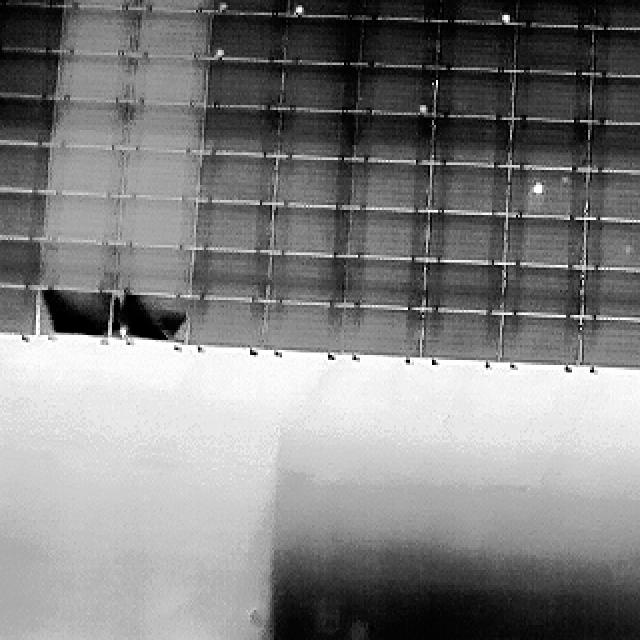Hotspots: (526, 177, 548, 197), (414, 98, 434, 118), (208, 44, 227, 62), (496, 4, 511, 25), (214, 0, 236, 12), (286, 0, 306, 12)
PV-modules: (40, 240, 120, 296), (346, 208, 431, 260), (423, 259, 503, 312), (350, 164, 433, 215), (506, 264, 587, 316), (268, 255, 349, 307), (184, 300, 268, 350), (188, 250, 273, 299), (420, 312, 500, 364), (346, 259, 427, 310), (354, 114, 435, 165), (504, 316, 585, 367), (261, 304, 340, 356), (429, 167, 509, 218), (340, 309, 420, 360), (271, 203, 349, 255), (112, 246, 190, 298), (284, 20, 365, 70), (43, 145, 122, 196), (192, 201, 274, 250), (122, 148, 199, 200), (117, 196, 193, 248), (433, 117, 512, 167), (358, 65, 437, 115), (435, 68, 514, 118), (512, 118, 591, 168), (358, 19, 437, 69), (276, 160, 353, 211), (428, 213, 506, 263), (124, 101, 202, 151), (40, 195, 118, 245), (280, 110, 356, 161), (201, 107, 280, 156), (439, 21, 516, 71), (505, 216, 583, 265), (280, 61, 358, 110), (111, 291, 187, 341), (513, 170, 589, 220), (512, 72, 591, 120), (59, 8, 136, 57), (200, 156, 277, 205), (51, 101, 126, 151), (55, 53, 129, 103), (516, 28, 596, 74), (212, 17, 288, 65), (38, 287, 113, 335), (128, 58, 206, 104), (136, 13, 208, 62), (207, 60, 282, 107), (578, 265, 640, 317), (578, 318, 640, 370), (0, 5, 62, 56), (582, 220, 640, 270), (0, 51, 57, 100), (0, 98, 52, 150), (586, 172, 640, 222), (588, 120, 640, 170), (590, 30, 640, 80), (590, 72, 640, 120), (0, 143, 47, 194), (0, 191, 46, 243), (516, 0, 598, 25), (0, 238, 40, 288), (0, 284, 39, 335), (438, 0, 516, 25), (362, 0, 440, 22), (290, 0, 368, 20), (592, 0, 640, 30), (216, 0, 292, 15), (68, 0, 144, 10), (138, 0, 210, 10), (2, 0, 70, 8)
